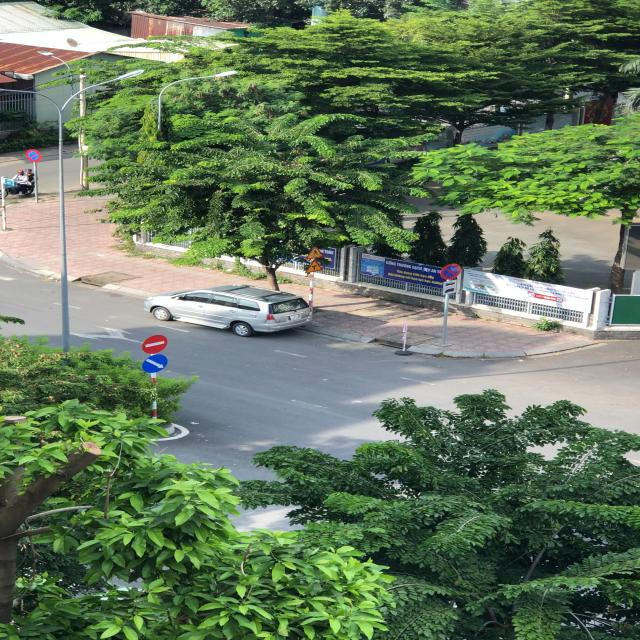Bien bao cam di nguoc chieu: (140, 334, 167, 354)
Bien bao cam dung xe va do xe: (438, 262, 465, 280)
Bien bao duong giao nhau: (303, 260, 328, 274)
Bien bao duong nguoi di bo cat ngang: (306, 244, 328, 260)
Bien bao huong phai di vong chuong ngai vat: (140, 354, 173, 374)
